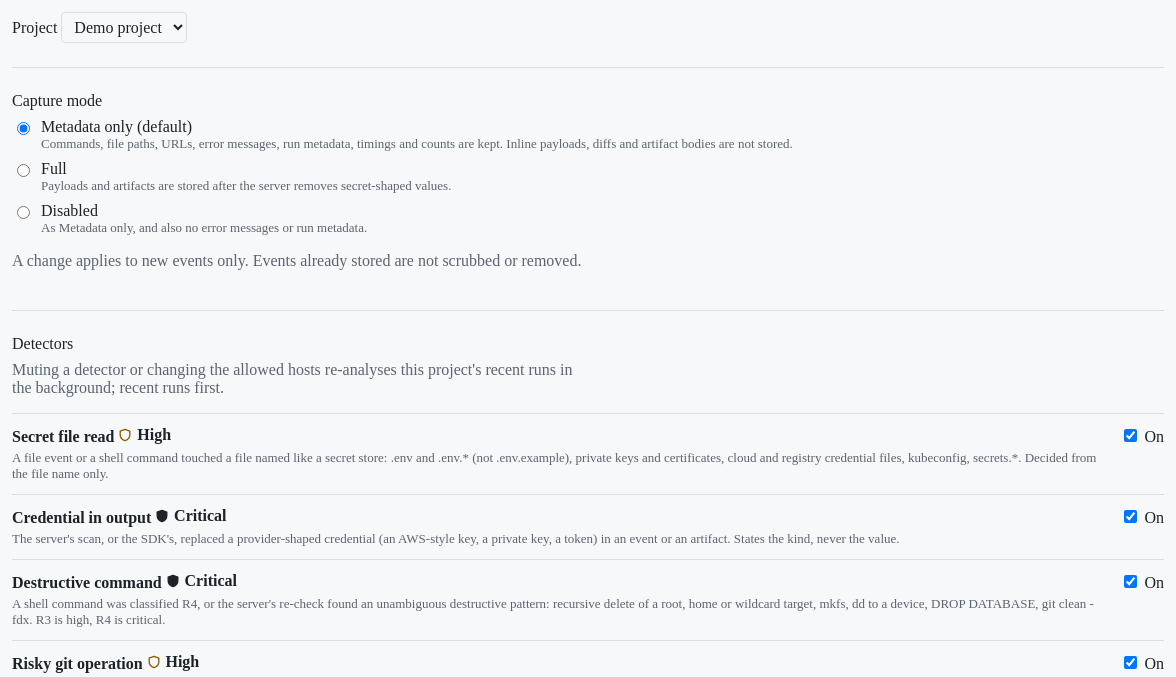
Scenario: Security settings › a 403 on save is a clean message, not a crash
Expected: the element "Capture mode" is shown, left=12, top=67, right=1164, bottom=286
Step 1. Click the radio button labelled "Full" → (24, 170), box left=17, top=164, right=30, bottom=177
(page scrolled)
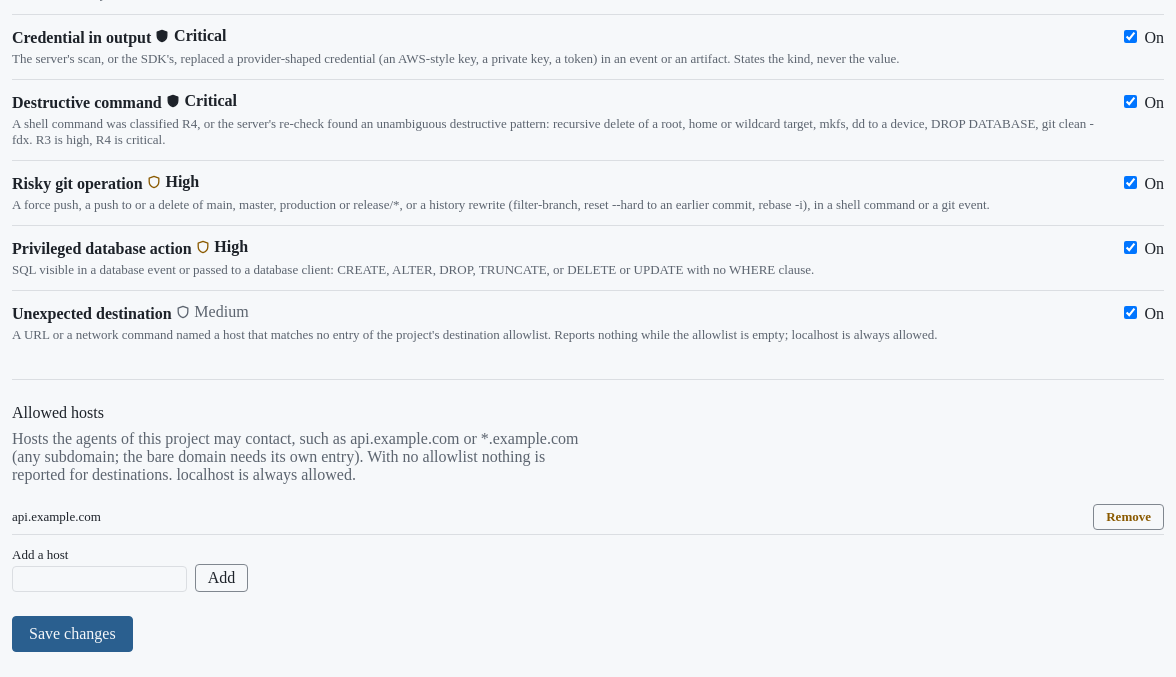
Step 2. Click the button "Save changes" → (72, 634), box left=12, top=616, right=133, bottom=652
(page scrolled)
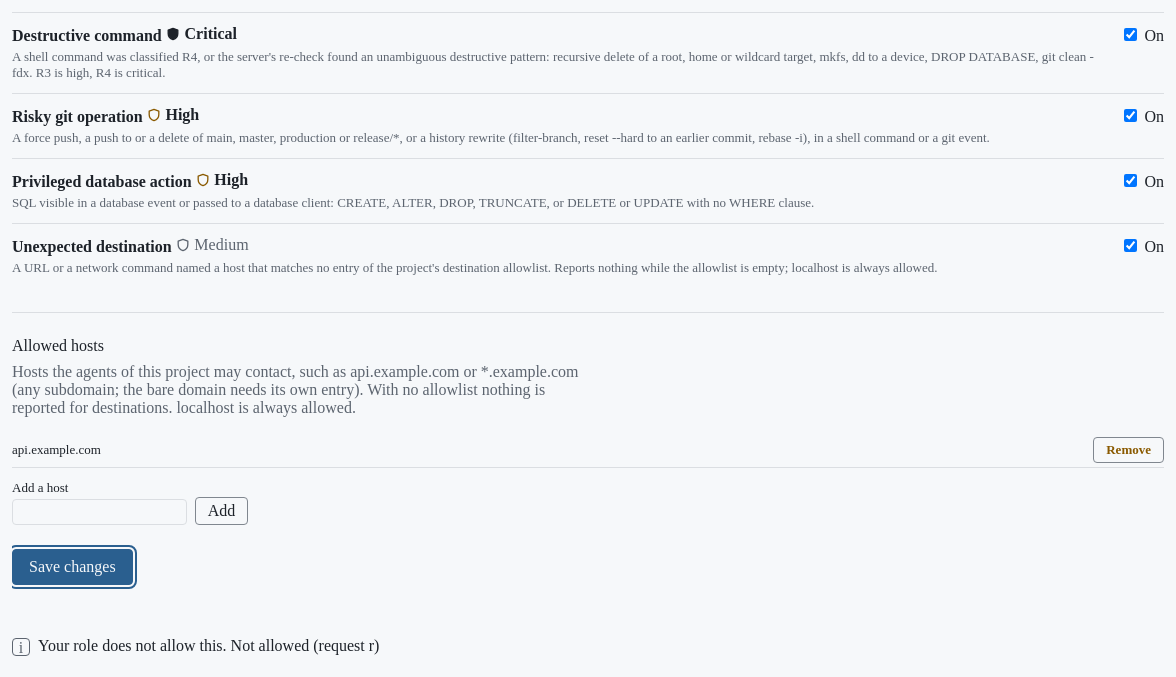
Now the message "Your role does not allow this. Not allowed (request r)" is shown, box left=38, top=637, right=379, bottom=654
